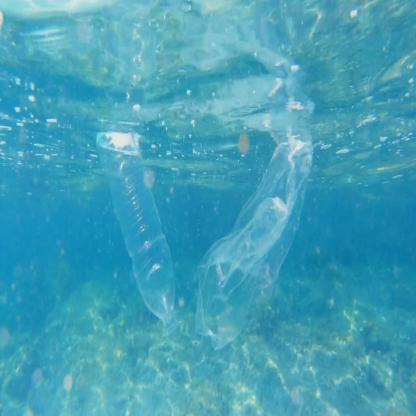Rác: (200, 134, 326, 339), (99, 138, 183, 317)
